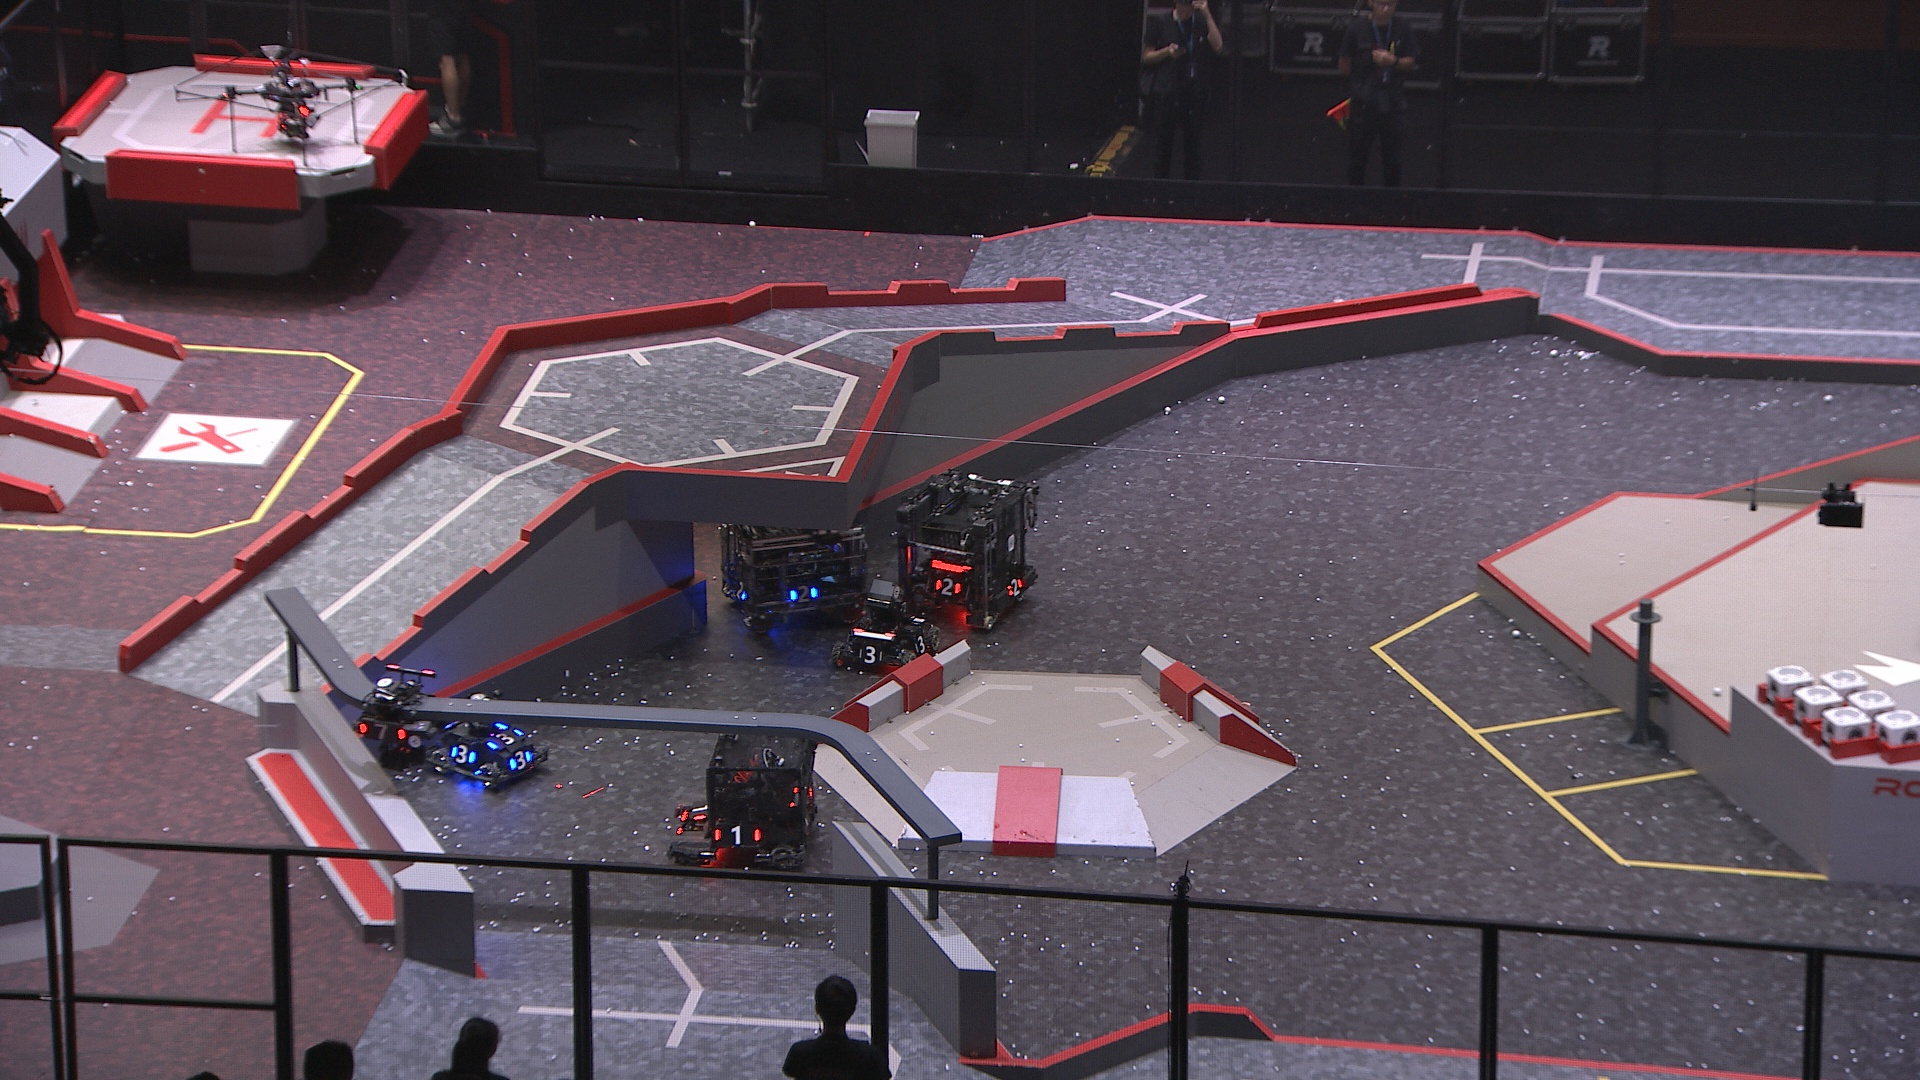armor: (353, 721, 410, 744), (485, 725, 524, 752), (713, 825, 761, 845), (448, 741, 480, 767), (508, 746, 533, 774), (787, 583, 820, 603), (856, 645, 887, 665), (684, 799, 712, 822), (934, 576, 963, 597), (1004, 576, 1025, 597), (913, 633, 932, 655), (731, 576, 746, 603)
car: (887, 463, 1046, 632), (665, 723, 823, 876), (713, 495, 877, 637), (427, 688, 556, 793), (823, 574, 945, 683)
watcher: (349, 661, 448, 777)
